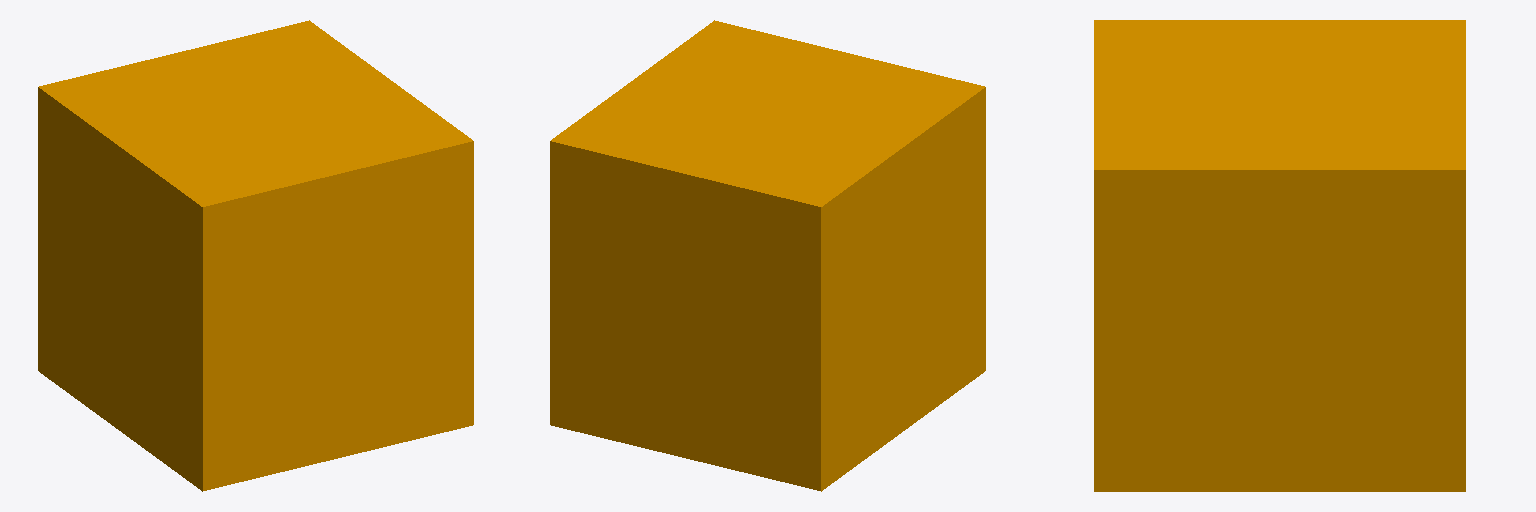
URDF robot description (object):
<robot name="object">
  <link name="object">
    <visual>
      <origin xyz="0 0 0" />
      <geometry>
        <box size="0.08000000000000002 0.08400000000000002 0.08" />
      </geometry>
    </visual>

    <collision>
      <origin xyz="0 0 0" />
      <geometry>
        <box size="0.08000000000000002 0.08400000000000002 0.08" />
      </geometry>
    </collision>

    <inertial>
      <mass value="0.05" />
      <inertia ixx="0.0001" ixy="0.0" ixz="0.0" iyy="0.0001" iyz="0.0" izz="0.0001" />
    </inertial>
  </link>
</robot>

--- Render facts (derived) ---
3 views of the same robot in one strip: view 1: azimuth 30°, elevation 25°; view 2: azimuth 150°, elevation 25°; view 3: azimuth 270°, elevation 25° (orthographic).
Robot: object — 1 links, 0 joints (none); root link object; default pose: all joints at 0.
Visible links, largest first — view 1: object; view 2: object; view 3: object.
Link boxes in pixels (<box>): object: <box>38,20,473,491</box>; object: <box>550,20,985,491</box>; object: <box>1094,20,1465,491</box>.
Bounding box of the posed robot: 0.08 × 0.084 × 0.08 m (x, y, z).
Geometry: primitives only (box / cylinder / sphere), no mesh files.